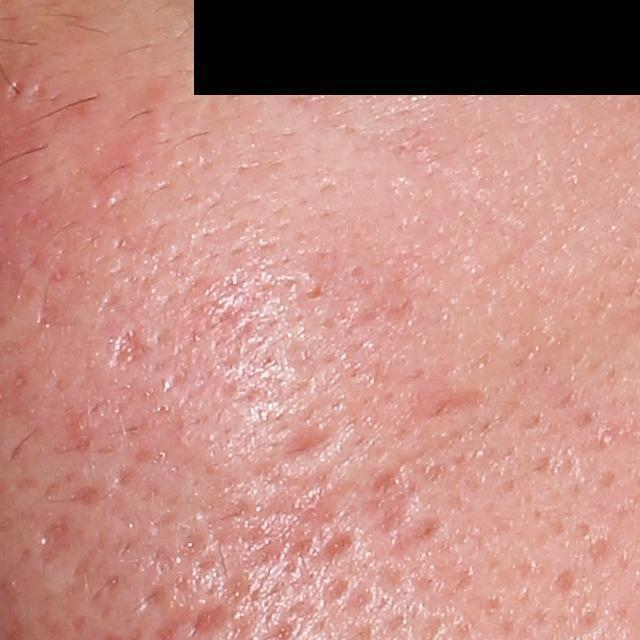atrophic_scar: (360, 460, 450, 568), (346, 257, 419, 341), (402, 387, 490, 422), (40, 515, 89, 572), (277, 428, 340, 468), (107, 322, 153, 371), (71, 483, 106, 508)
